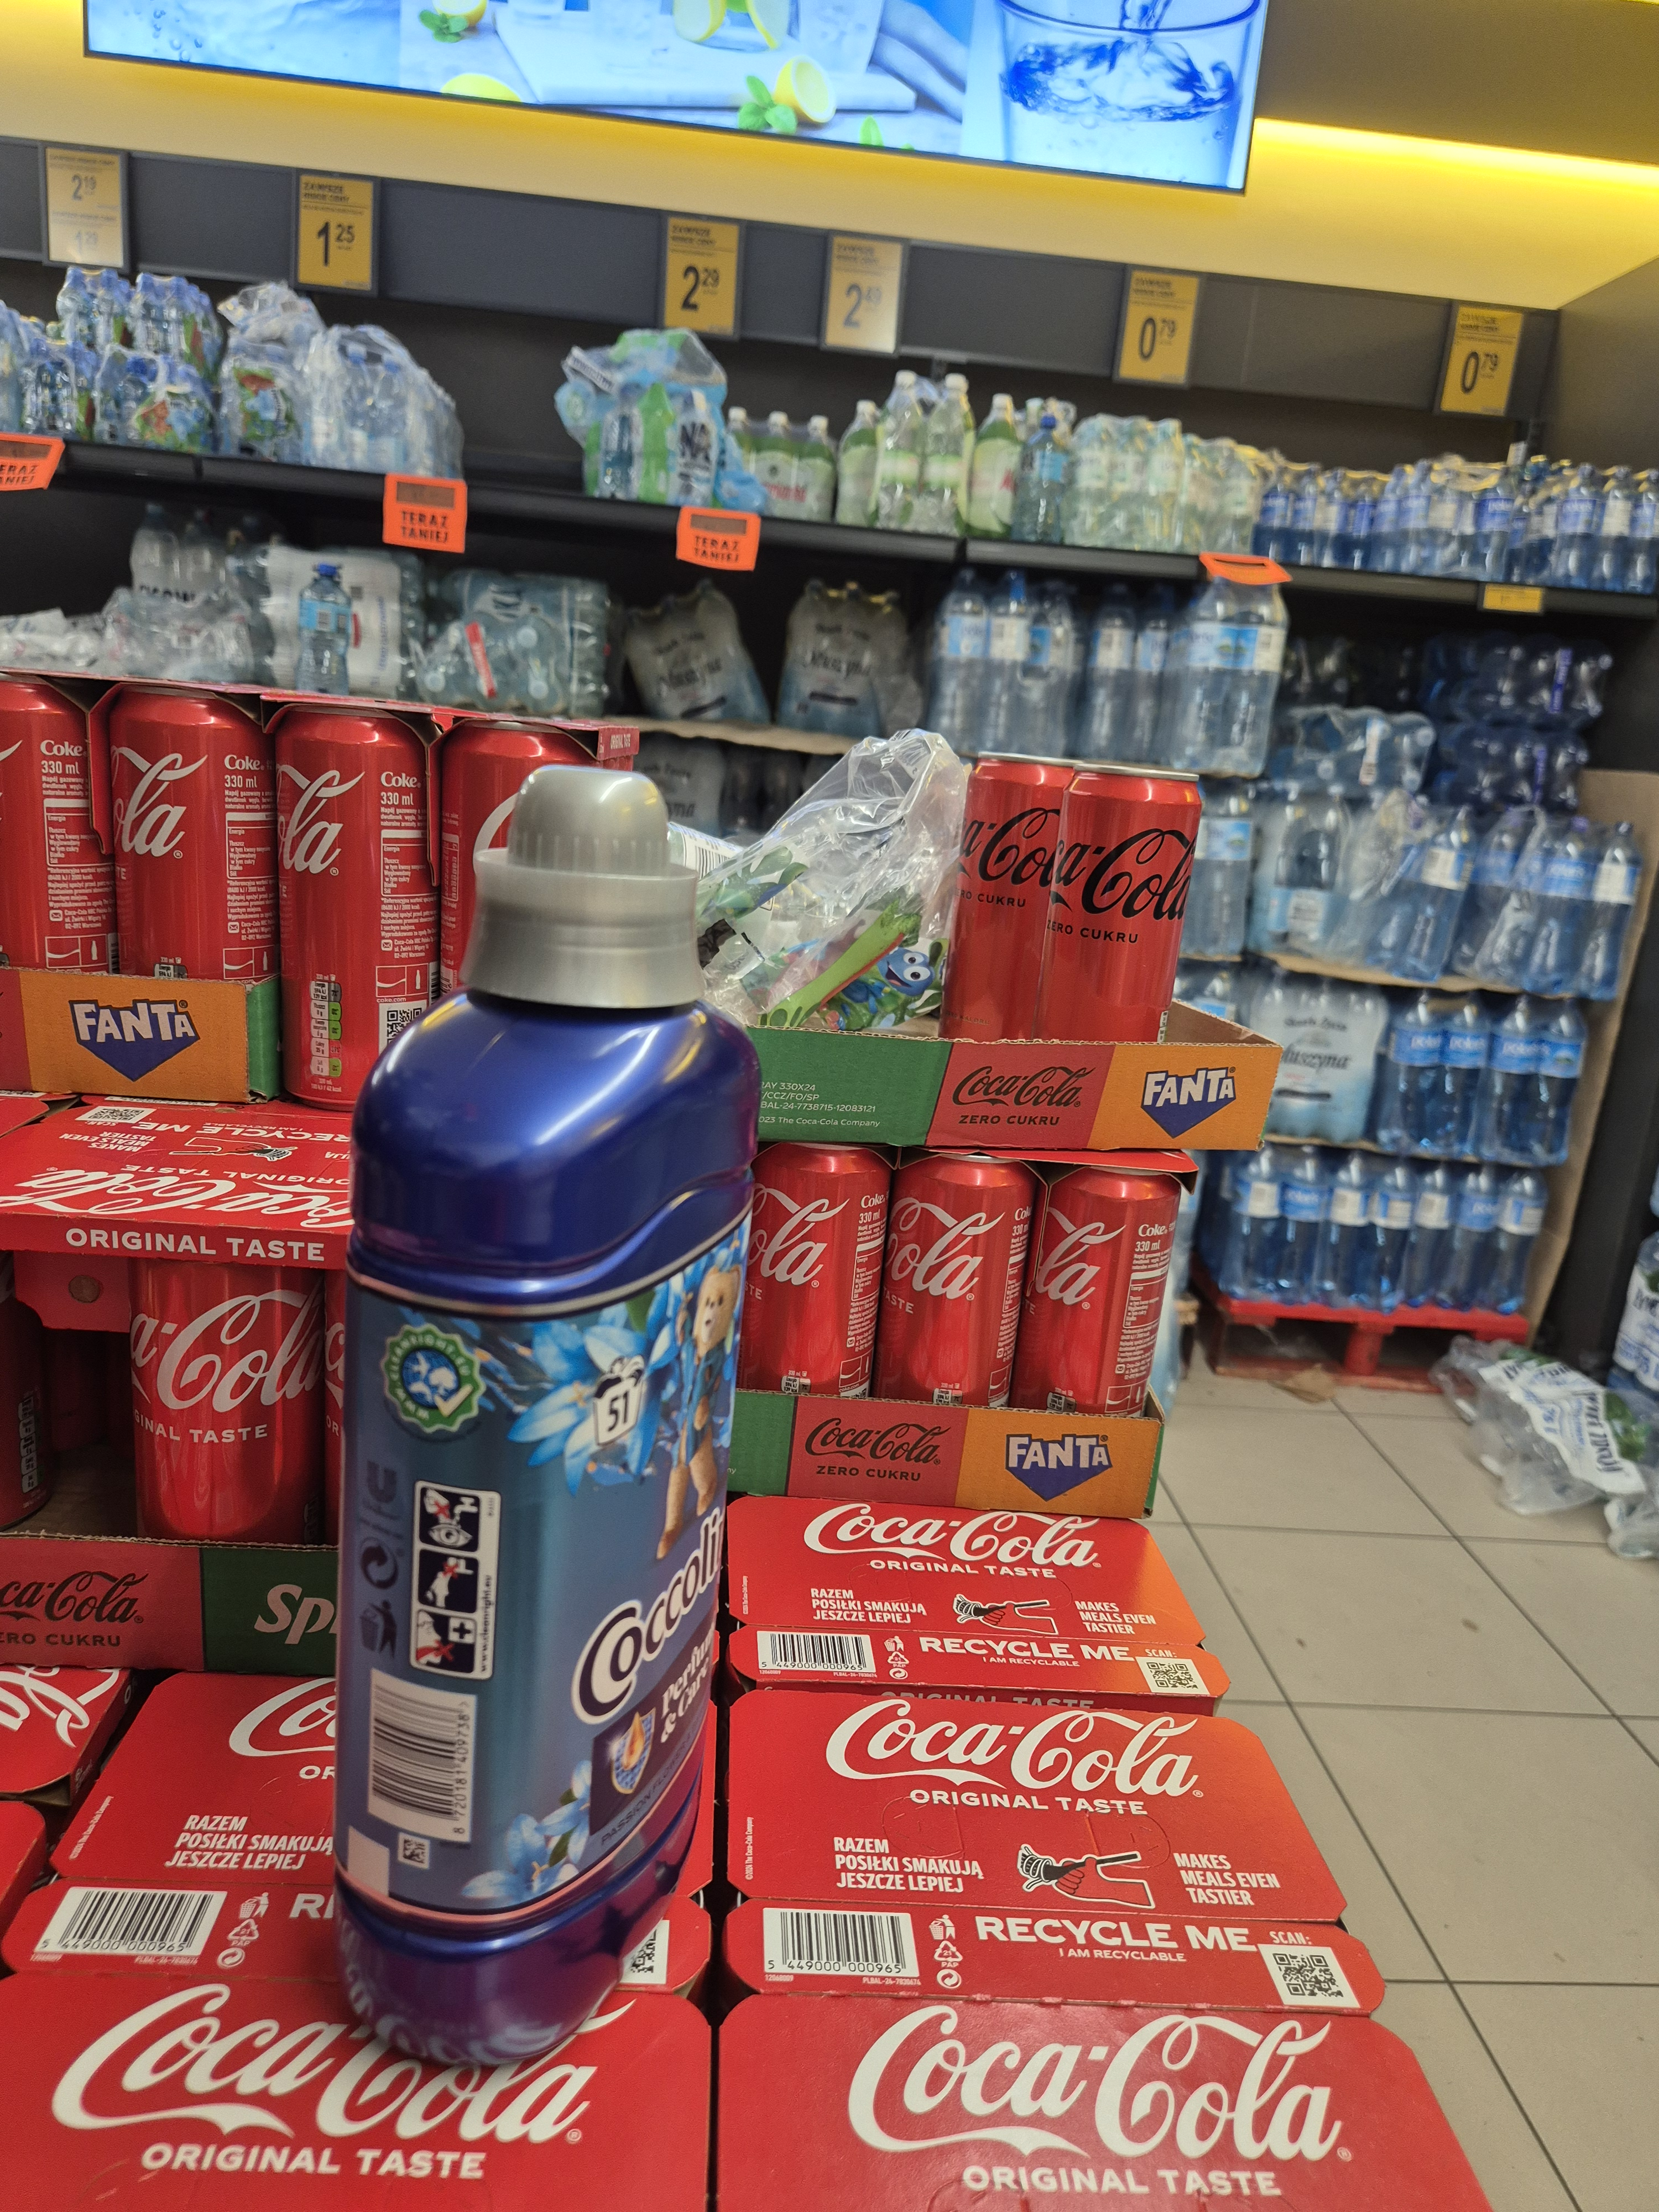cocolino: (303, 765, 749, 2101)
